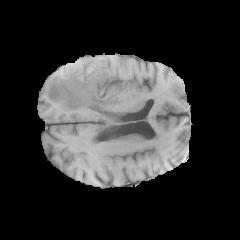glioma: (46, 55, 121, 112)
